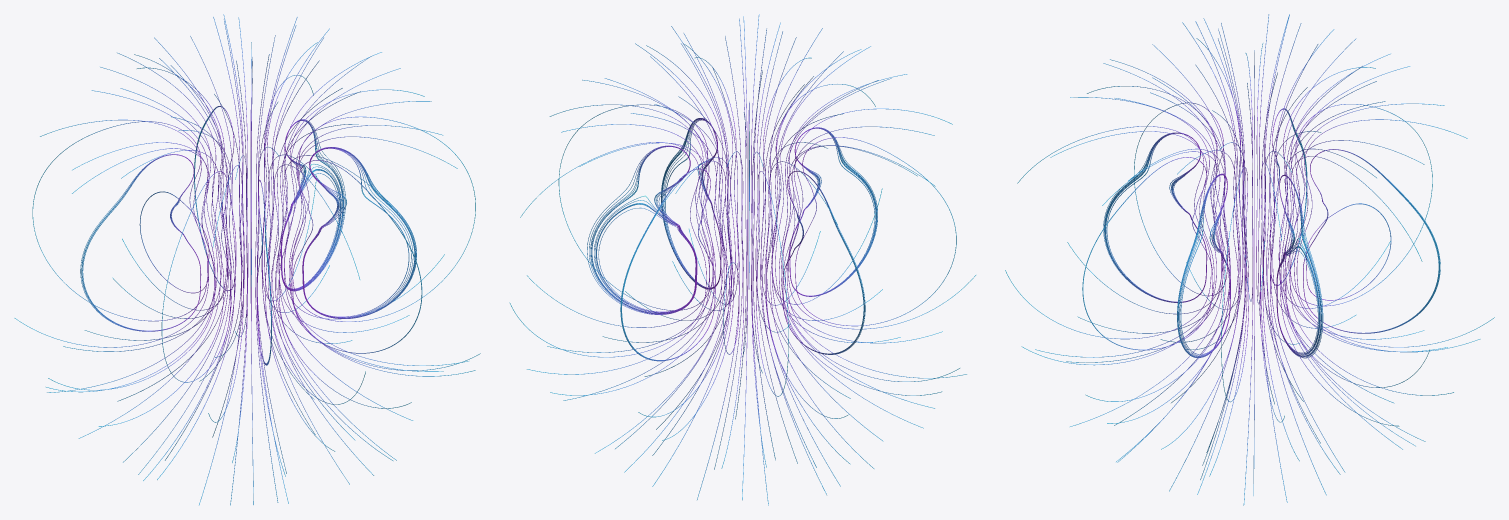
The model's file is coil_4_field_lines.gltf.
3 renders of one model, left to right at view 1: azimuth 30°, elevation 25°; view 2: azimuth 150°, elevation 25°; view 3: azimuth 270°, elevation 25°, orthographic.
Visible parts, largest first — view 1: Renderer Node; view 2: Renderer Node; view 3: Renderer Node.
Boxes of the visible parts, box(x1,y1,x2,y2) form: Renderer Node: box(14, 14, 480, 505); Renderer Node: box(509, 14, 975, 505); Renderer Node: box(1005, 14, 1494, 505).
Bounding box in the file's own units: 2.03 × 2.06 × 2.06.
Materials: 1 (1 with a texture image).
